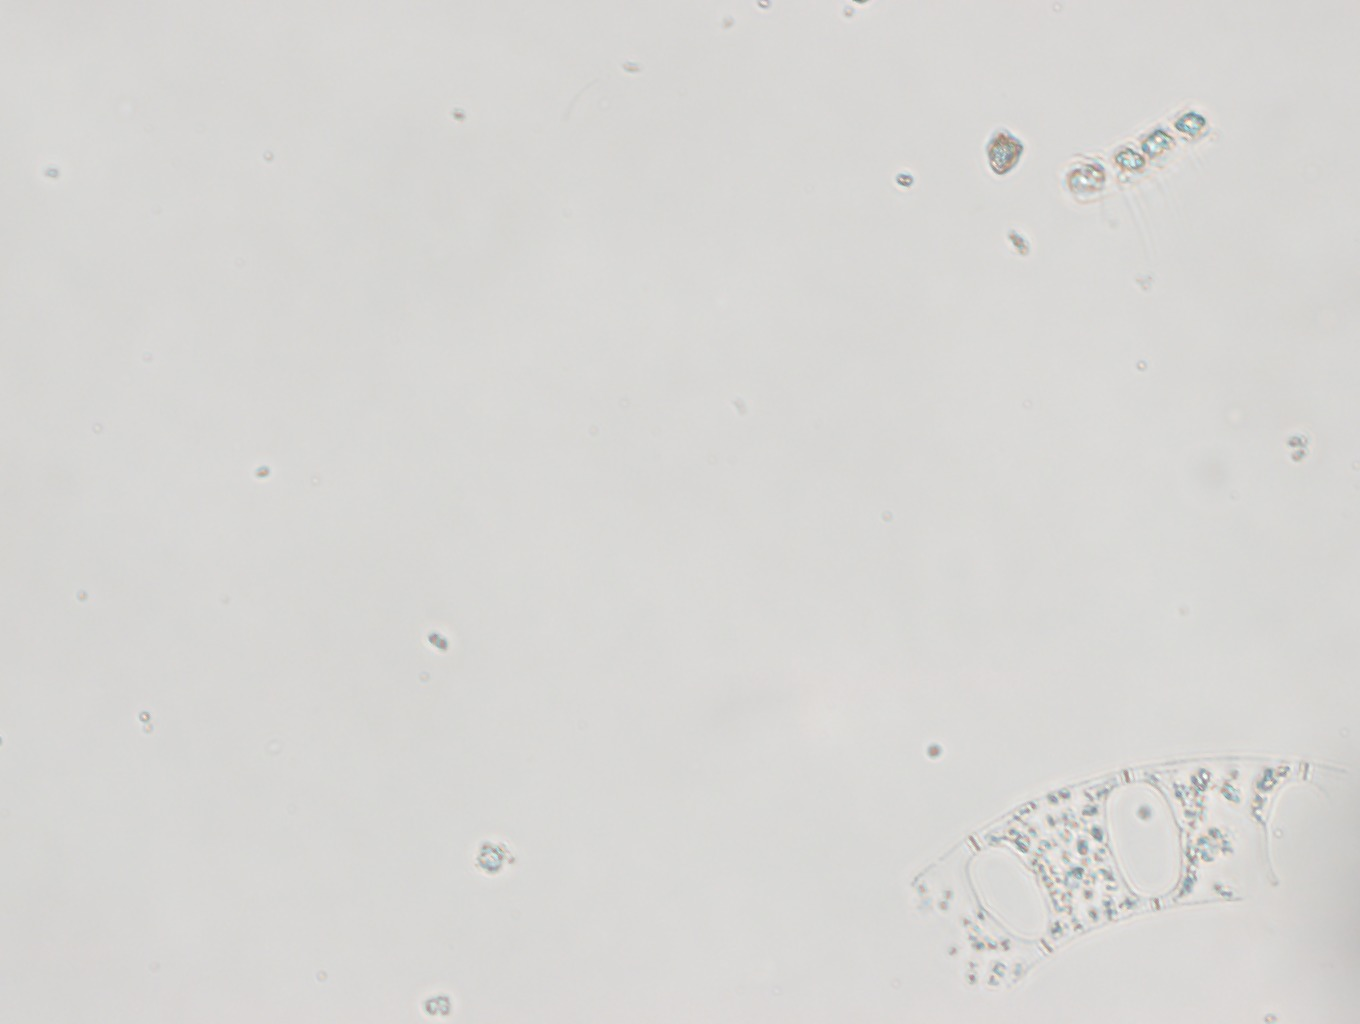chaetoceros: (1053, 90, 1252, 262)
eucampia: (838, 748, 1317, 1008)
